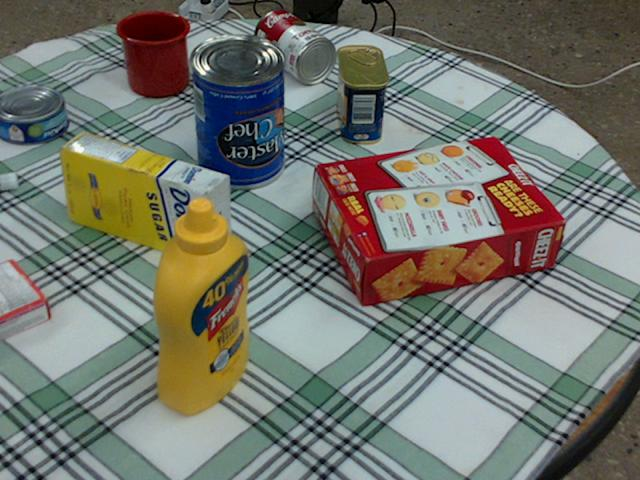cracker_box: (314, 136, 565, 306)
gelatin_box: (0, 259, 51, 339)
large_marker: (0, 172, 17, 190)
master_chef_can: (187, 34, 282, 188)
mug: (117, 10, 191, 95)
mustard_bottle: (151, 197, 248, 412)
potted_meat_can: (334, 45, 387, 143)
sugar_box: (58, 131, 229, 267)
tomato_soup_can: (254, 8, 334, 82)
tuna_fish_can: (0, 84, 68, 143)
